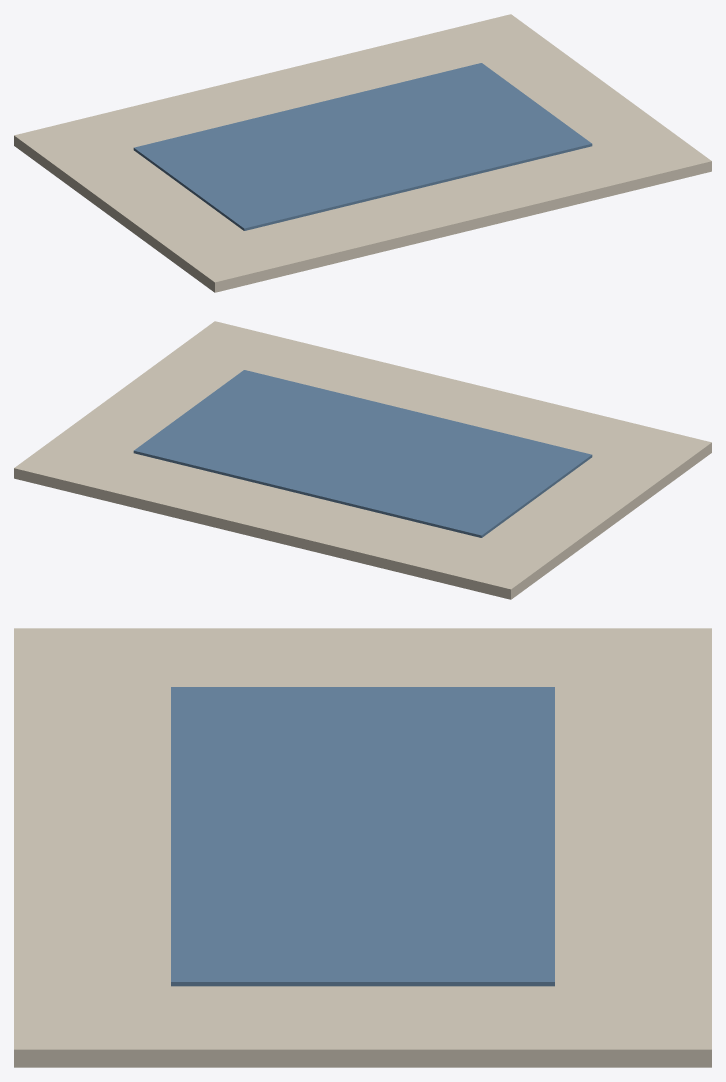
The model's file is photo.fbx.
The picture shows the model from 3 angles, top to bottom: view 1: azimuth 30°, elevation 25°; view 2: azimuth 150°, elevation 25°; view 3: azimuth 270°, elevation 25°; orthographic projection. The views are drawn at different scales.
Visible parts, largest first — view 1: photo; view 2: photo; view 3: photo.
Part boxes in pixels (x1,y1,x2,y2): photo: (14,14,711,292); photo: (14,321,711,599); photo: (14,628,711,1067).
Bounding box in the file's own units: 0.1 × 0.0025 × 0.07.
